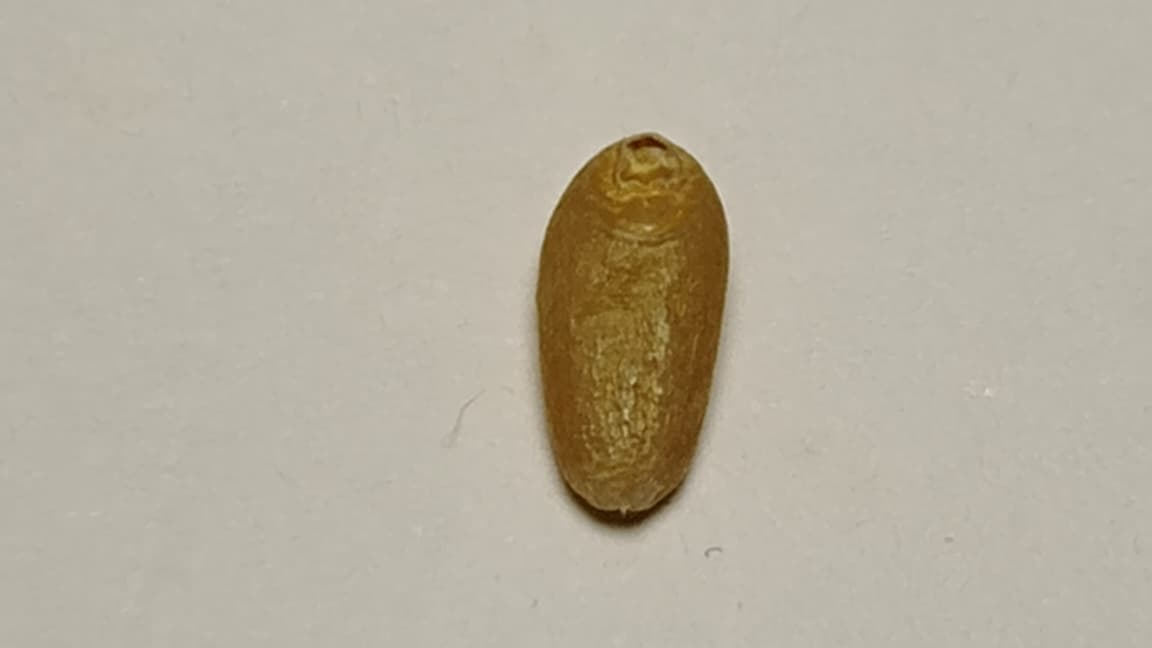healthy: (536, 133, 728, 510)
